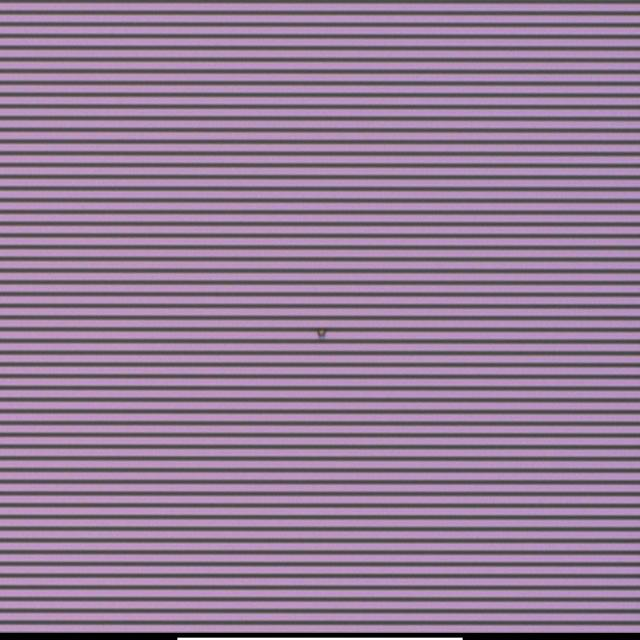03_intrusion: (316, 326, 329, 341)
